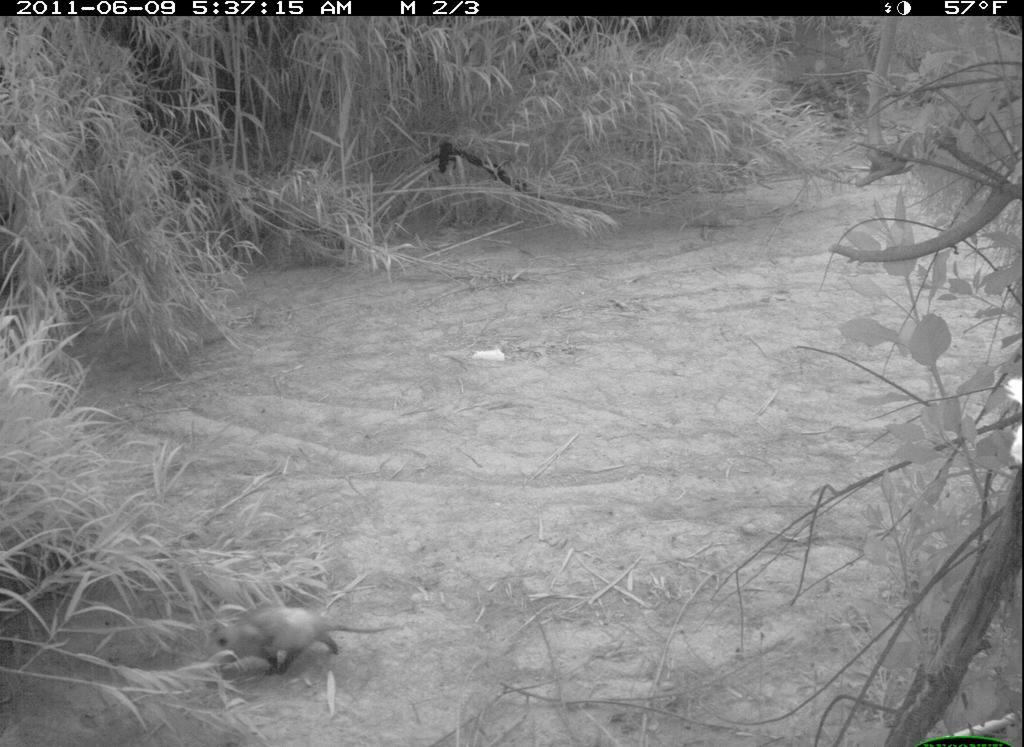opossum: (193, 594, 406, 699)
